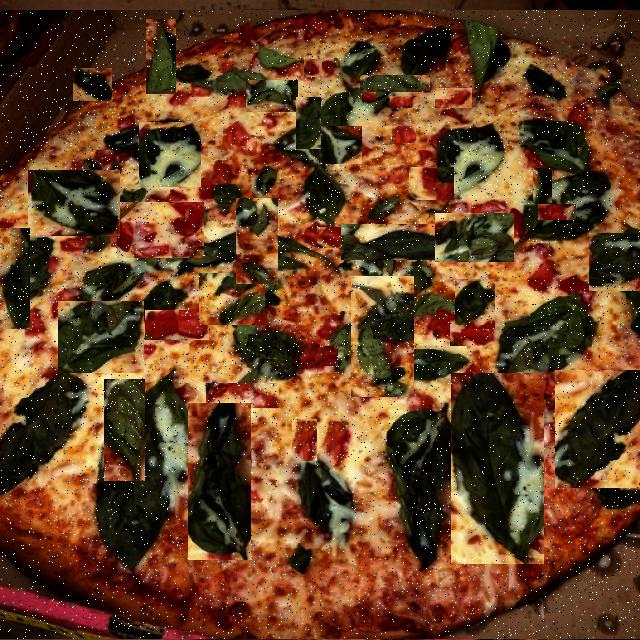Basil: (451, 373, 544, 564), (555, 370, 640, 488), (188, 404, 251, 562), (351, 276, 414, 397), (294, 468, 352, 576), (58, 301, 144, 373), (28, 170, 120, 236), (104, 379, 145, 481), (341, 224, 455, 260), (139, 122, 201, 187), (42, 116, 116, 170), (352, 301, 404, 377), (435, 214, 514, 264), (236, 198, 278, 284), (199, 273, 265, 325), (0, 228, 30, 329), (589, 233, 640, 291), (0, 225, 33, 302), (146, 20, 176, 96), (192, 29, 238, 78), (180, 346, 271, 368), (455, 279, 495, 329), (246, 80, 298, 112), (319, 126, 362, 164), (278, 328, 317, 366), (74, 68, 114, 101), (296, 97, 321, 149), (360, 75, 430, 92), (304, 180, 335, 218), (534, 168, 554, 203)
Pizza: (0, 10, 640, 640)
Tomato: (117, 202, 204, 258), (145, 310, 209, 340), (78, 243, 117, 292), (572, 292, 615, 336), (206, 383, 279, 408), (409, 167, 454, 200), (292, 419, 317, 461), (524, 339, 562, 366), (450, 320, 489, 346), (44, 276, 77, 301), (83, 155, 125, 174), (435, 88, 472, 108), (538, 204, 576, 220), (329, 62, 362, 79), (317, 227, 341, 248), (315, 346, 338, 366), (392, 126, 417, 143), (390, 96, 418, 108), (304, 59, 322, 77), (208, 78, 229, 92), (560, 234, 573, 250), (362, 92, 376, 102)
